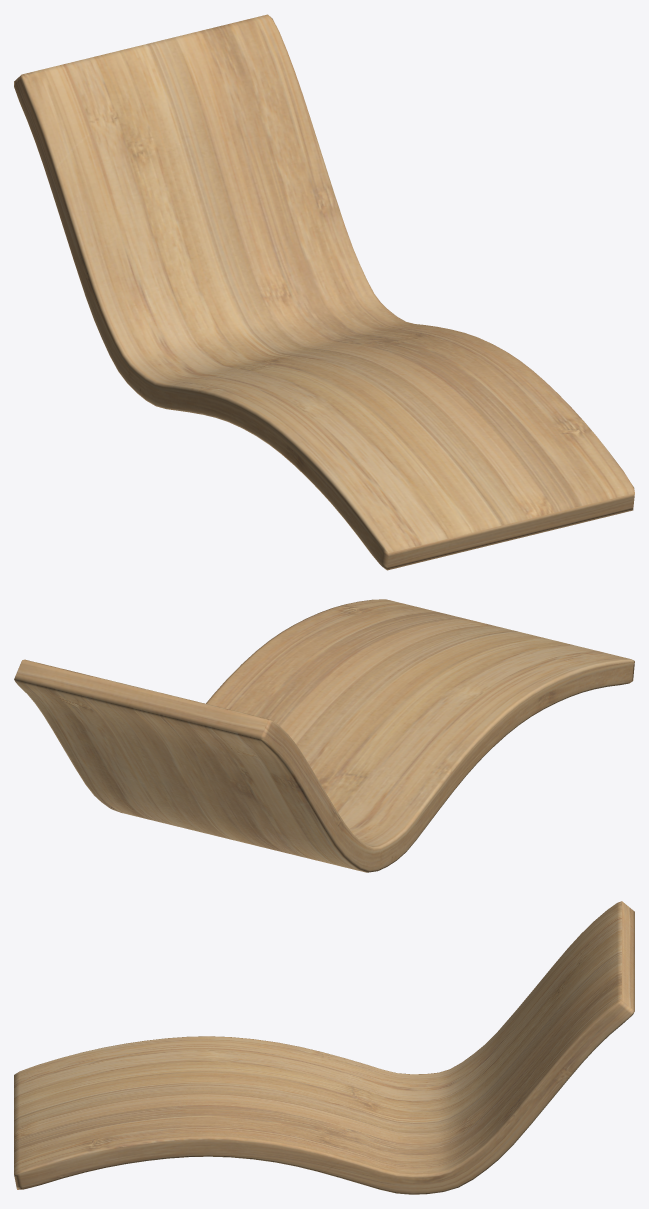
File: beachseat.fbx
3 renders of one model, top to bottom at view 1: azimuth 30°, elevation 25°; view 2: azimuth 150°, elevation 25°; view 3: azimuth 270°, elevation 25°, orthographic. The views are drawn at different scales.
Visible parts, largest first — view 1: pCube413; view 2: pCube413; view 3: pCube413.
Part boxes in pixels (left/top/right/bottom): pCube413: left=14, top=14, right=634, bottom=570; pCube413: left=14, top=599, right=634, bottom=872; pCube413: left=14, top=901, right=634, bottom=1194.
Bounding box in the file's own units: 7.32 × 6.48 × 18.83.
1 material, 1 textured.
